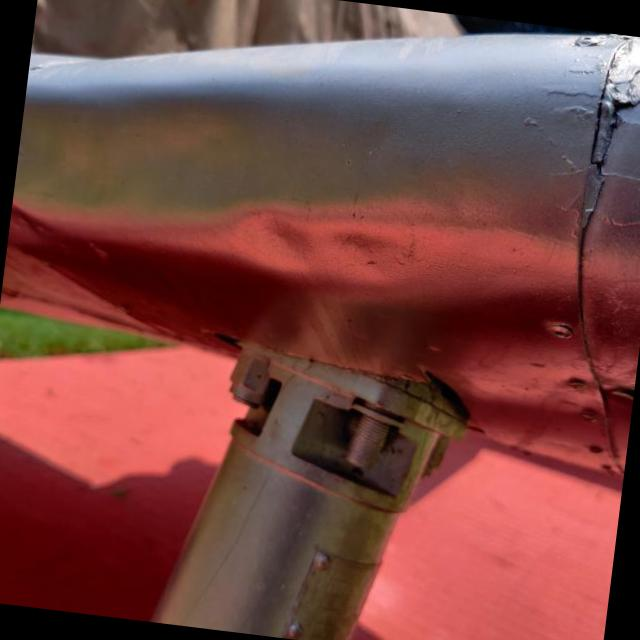Crack: (592, 73, 640, 179)
Dent: (205, 195, 437, 310)
